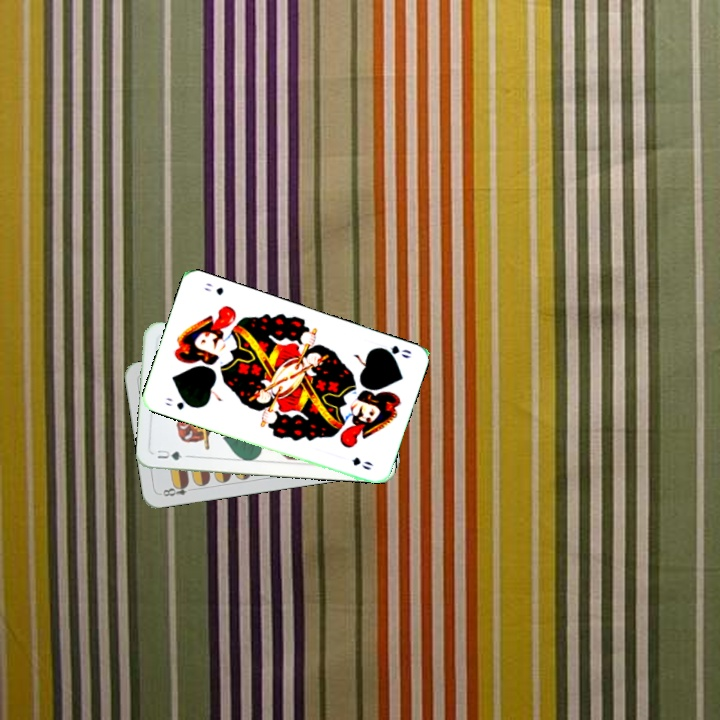E8: (157, 479, 191, 499)
GO: (373, 341, 414, 361), (161, 393, 197, 412)
GU: (153, 446, 184, 463)
